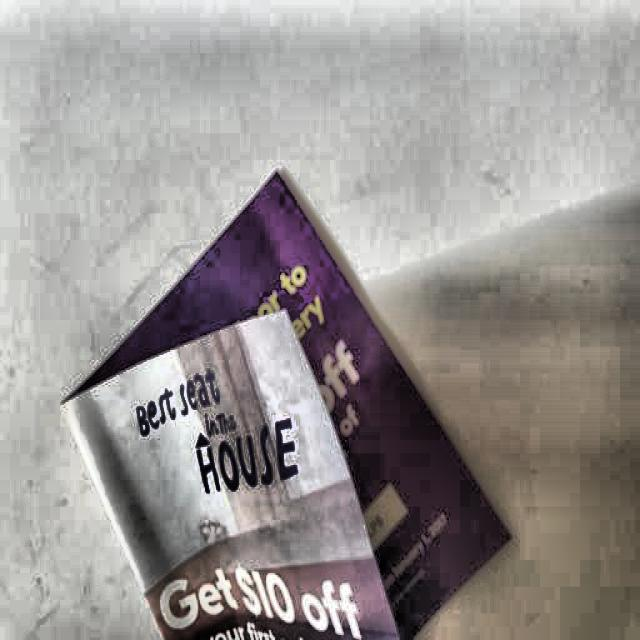paper: (54, 170, 513, 638)
